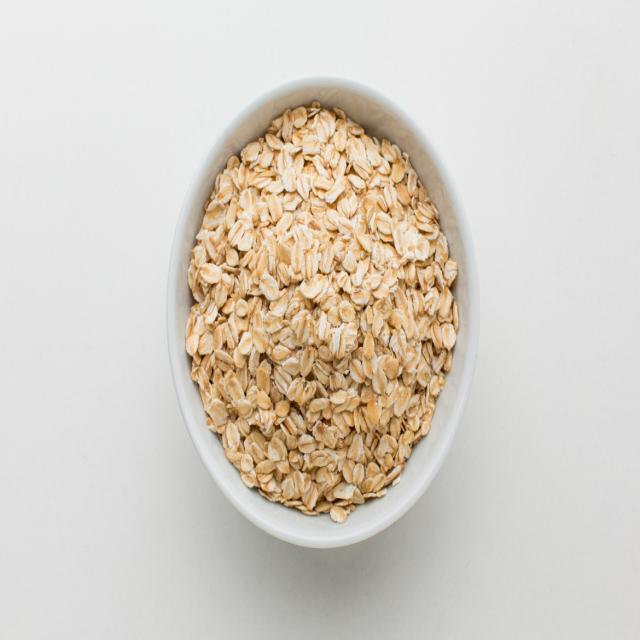avena: (173, 92, 463, 532)
